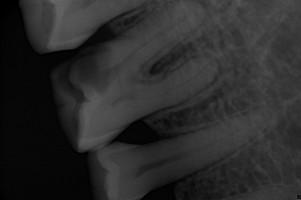Endo-Periodontal Lesion: (149, 46, 184, 76)
